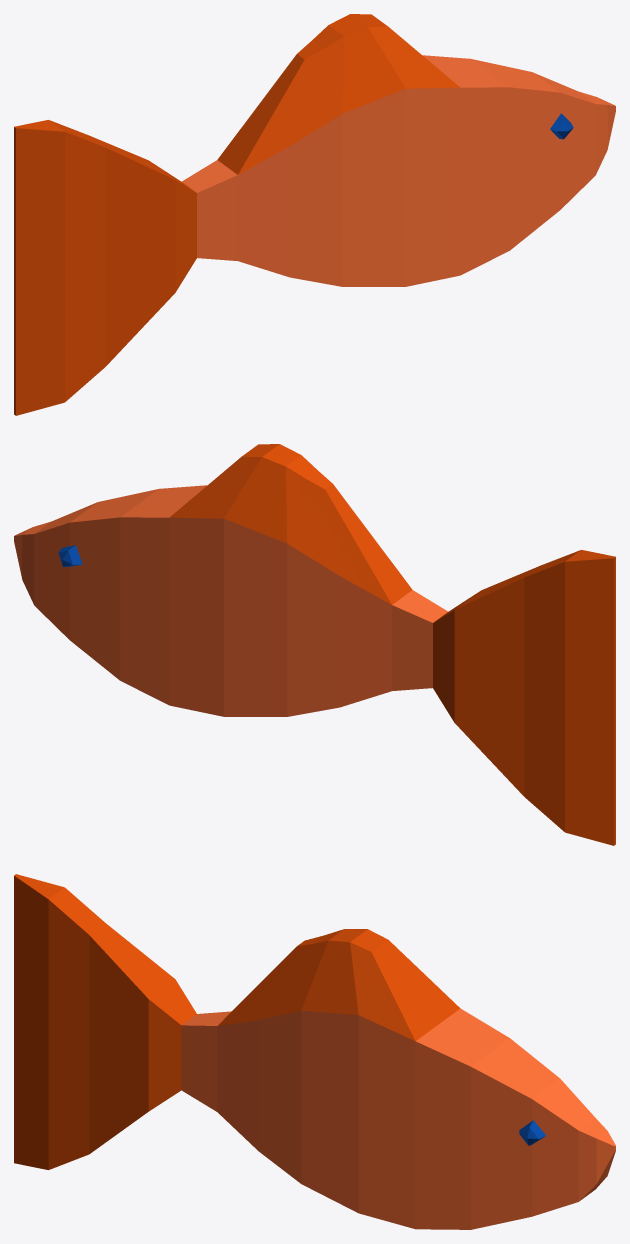
File: Fish.fbx
3 renders of one model, top to bottom at view 1: azimuth 30°, elevation 25°; view 2: azimuth 150°, elevation 25°; view 3: azimuth 330°, elevation 25°, orthographic.
Parts seen in each view (by area): view 1: Bush.003; view 2: Bush.003; view 3: Bush.003.
Part boxes in pixels (left/top/right/bottom): Bush.003: left=14, top=14, right=615, bottom=415; Bush.003: left=14, top=444, right=615, bottom=845; Bush.003: left=14, top=874, right=615, bottom=1229.
Size of the model in its own units: 1.52 by 0.7515 by 0.2078.
